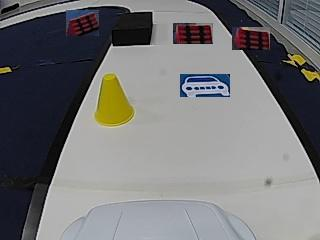block: (113, 11, 152, 45)
cone: (94, 73, 135, 127)
